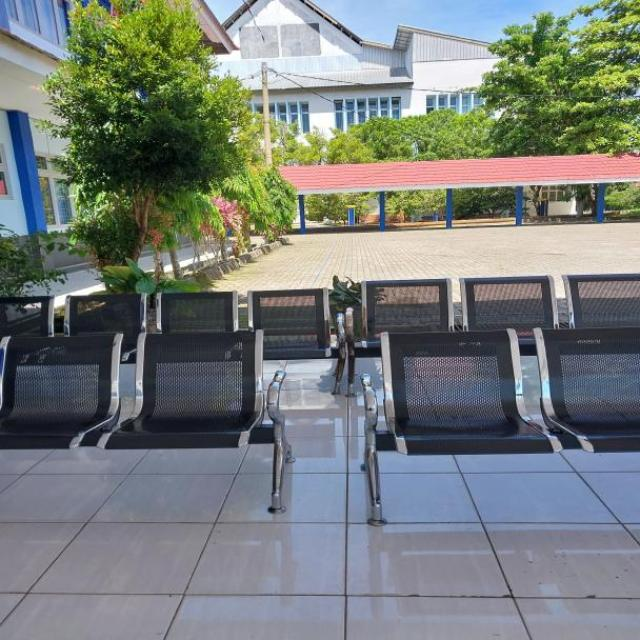chair ahead at: (378, 327, 558, 460), (111, 325, 278, 448)
